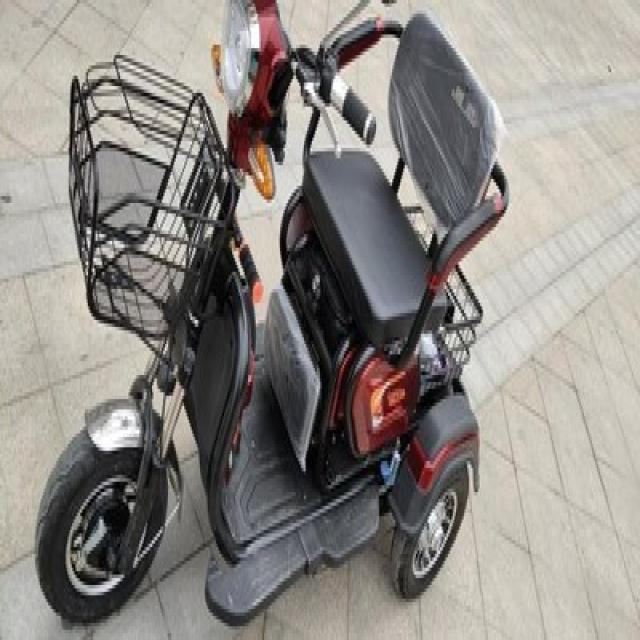tricycle: (33, 0, 510, 616)
